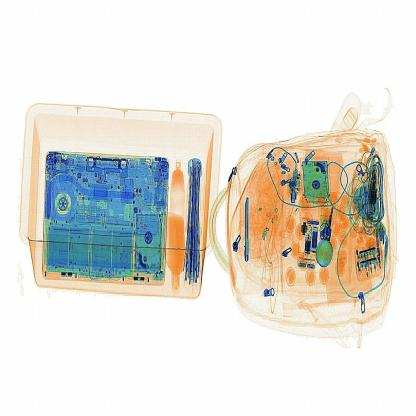pliers: (240, 192, 259, 266)
